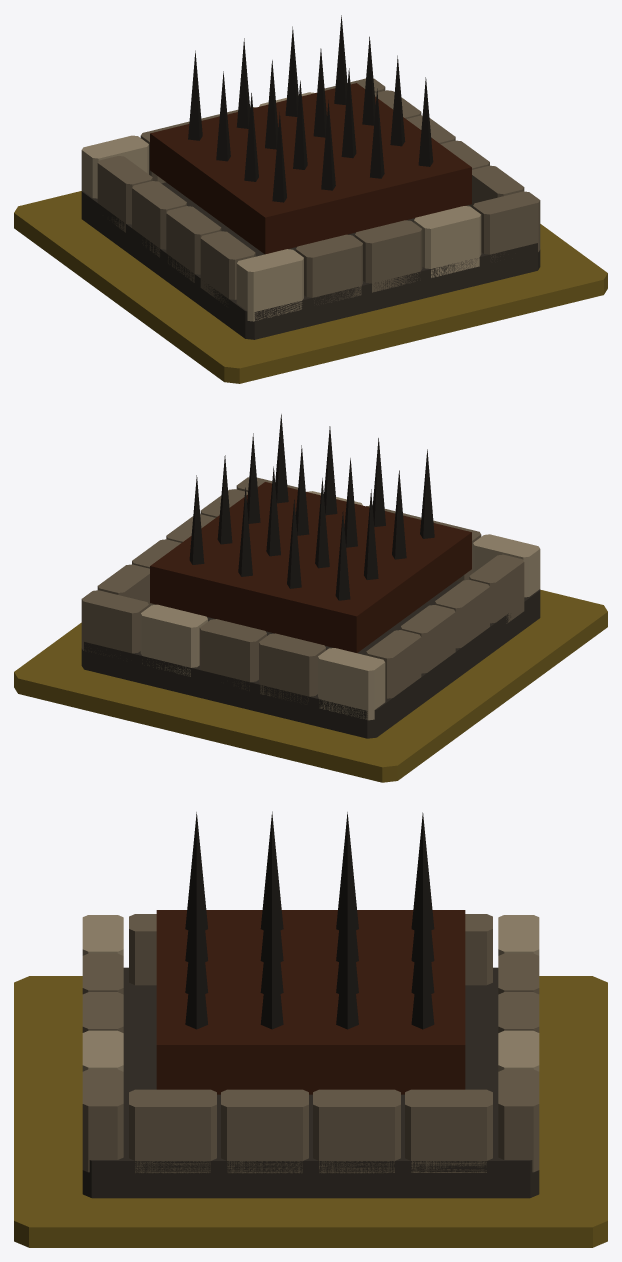
File: trap_t1.glb
3 views of the same model, one above another, from view 1: azimuth 30°, elevation 25°; view 2: azimuth 150°, elevation 25°; view 3: azimuth 270°, elevation 25° (orthographic). The views are drawn at different scales.
Visible parts, largest first — view 1: MMR | trap | T01 Architecture.001, MMR | trap | Tier 01 Ground.001; view 2: MMR | trap | T01 Architecture.001, MMR | trap | Tier 01 Ground.001; view 3: MMR | trap | T01 Architecture.001, MMR | trap | Tier 01 Ground.001.
Part boxes in pixels (bbox=[...]): MMR | trap | T01 Architecture.001: bbox=[81, 15, 540, 339]; MMR | trap | Tier 01 Ground.001: bbox=[14, 191, 607, 383]; MMR | trap | T01 Architecture.001: bbox=[81, 414, 540, 738]; MMR | trap | Tier 01 Ground.001: bbox=[14, 589, 607, 782]; MMR | trap | T01 Architecture.001: bbox=[82, 811, 539, 1198]; MMR | trap | Tier 01 Ground.001: bbox=[14, 976, 607, 1247].
Bounding box in the file's own units: 1.3 × 0.635 × 1.3.
1 material, 1 textured.
